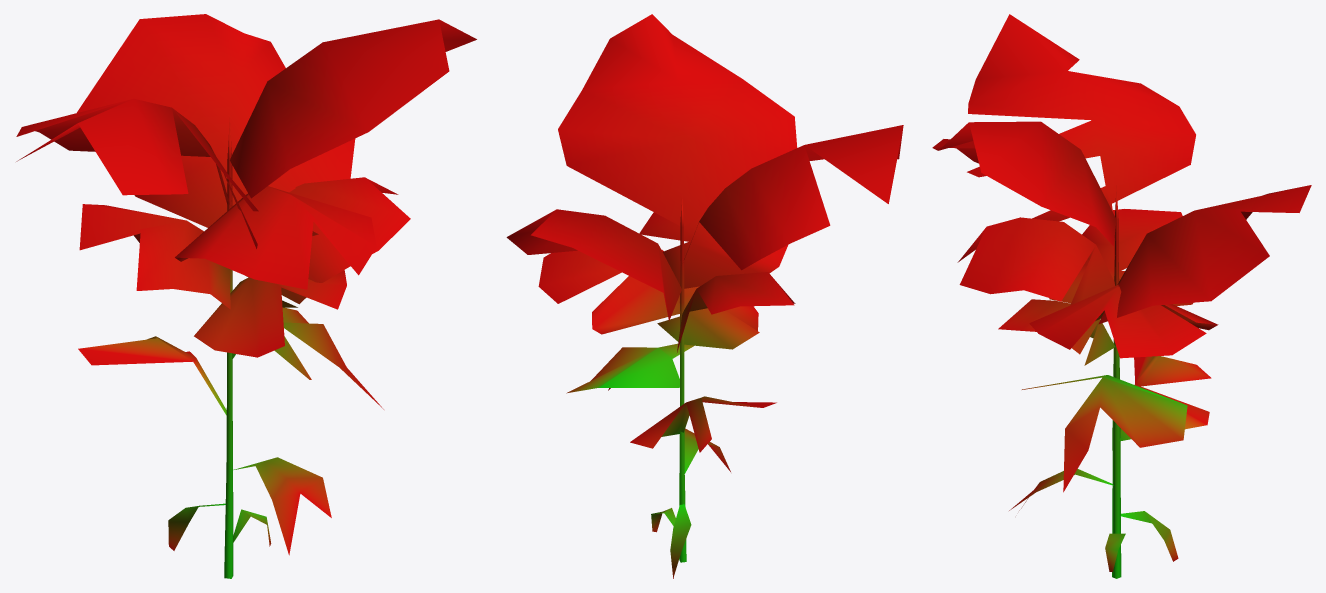
The model's file is Cane Palm_LOD2_Var1_siBmK.fbx.
3 renders of one model, left to right at view 1: azimuth 30°, elevation 25°; view 2: azimuth 150°, elevation 25°; view 3: azimuth 270°, elevation 25°, orthographic. The views are drawn at different scales.
Parts seen in each view (by area): view 1: _08e6_Var1_LOD2; view 2: _08e6_Var1_LOD2; view 3: _08e6_Var1_LOD2.
Boxes of the visible parts, <box> form: _08e6_Var1_LOD2: <box>16,14,476,578</box>; _08e6_Var1_LOD2: <box>506,14,903,578</box>; _08e6_Var1_LOD2: <box>932,14,1311,578</box>.
Bounding box in the file's own units: 31.6 × 43.7 × 29.67.
